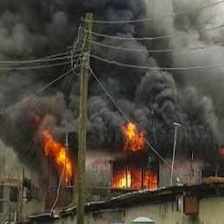fire: (35, 129, 77, 184), (111, 171, 158, 190), (123, 121, 146, 152)
smoke: (2, 1, 224, 136)
